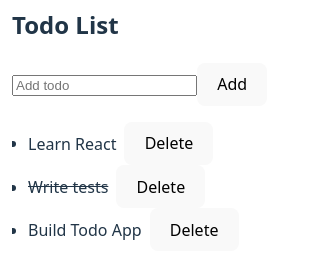
TodoList component › deletes a todo
Prefer role-based query for button with accessible name
Click the button with aria-label "delete write tests": [161, 186] box [116, 165, 205, 208]
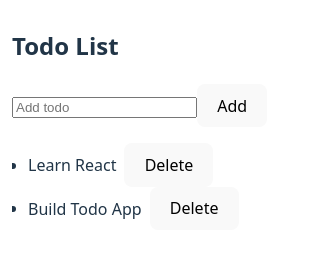
Now the list item "Write tests" is gone
